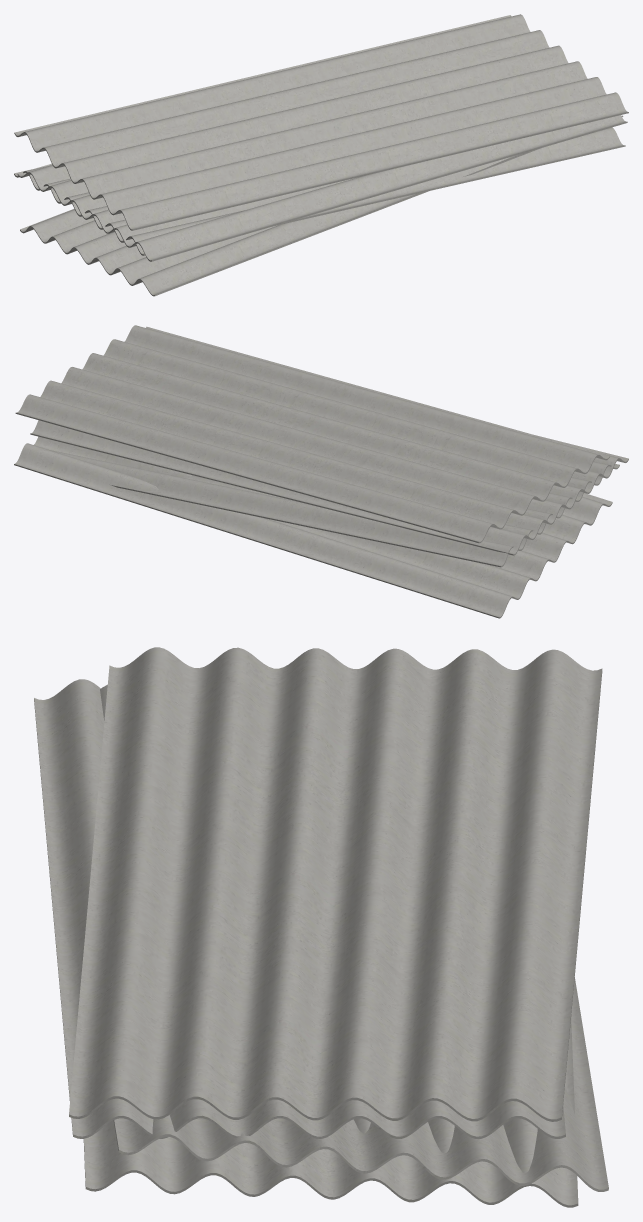
File: COB-FIB-002_anim.glb
3 renders of one model, top to bottom at view 1: azimuth 30°, elevation 25°; view 2: azimuth 150°, elevation 25°; view 3: azimuth 270°, elevation 25°, orthographic. The views are drawn at different scales.
Visible parts, largest first — view 1: COB-FIB-002_anim3, COB-FIB-002_anim2, COB-FIB-002_anim0, COB-FIB-002_anim1; view 2: COB-FIB-002_anim3, COB-FIB-002_anim0, COB-FIB-002_anim1, COB-FIB-002_anim2; view 3: COB-FIB-002_anim3, COB-FIB-002_anim2, COB-FIB-002_anim0, COB-FIB-002_anim1.
Part boxes in pixels (left/top/right/bottom): COB-FIB-002_anim3: left=14, top=14, right=628, bottom=230; COB-FIB-002_anim2: left=17, top=115, right=627, bottom=261; COB-FIB-002_anim0: left=20, top=115, right=623, bottom=296; COB-FIB-002_anim1: left=14, top=127, right=625, bottom=255; COB-FIB-002_anim3: left=15, top=325, right=609, bottom=543; COB-FIB-002_anim0: left=14, top=436, right=612, bottom=618; COB-FIB-002_anim1: left=50, top=450, right=619, bottom=567; COB-FIB-002_anim2: left=30, top=420, right=628, bottom=555; COB-FIB-002_anim3: left=69, top=647, right=602, bottom=1121; COB-FIB-002_anim2: left=34, top=679, right=565, bottom=1138; COB-FIB-002_anim0: left=113, top=977, right=608, bottom=1191; COB-FIB-002_anim1: left=83, top=685, right=578, bottom=1207.
Size of the model in its own units: 2.52 by 0.4945 by 1.28.
1 material, 1 textured.
